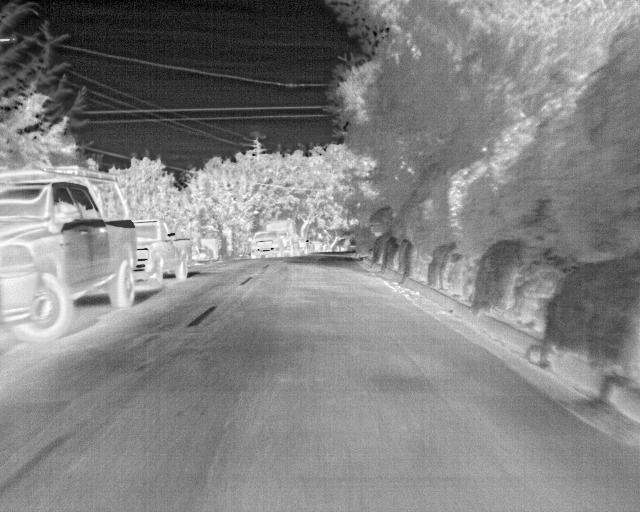car: (0, 169, 138, 345), (136, 218, 195, 288), (248, 229, 283, 258), (309, 240, 323, 253), (301, 240, 313, 255), (321, 241, 334, 253)
